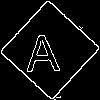A: (25, 25, 61, 72)
